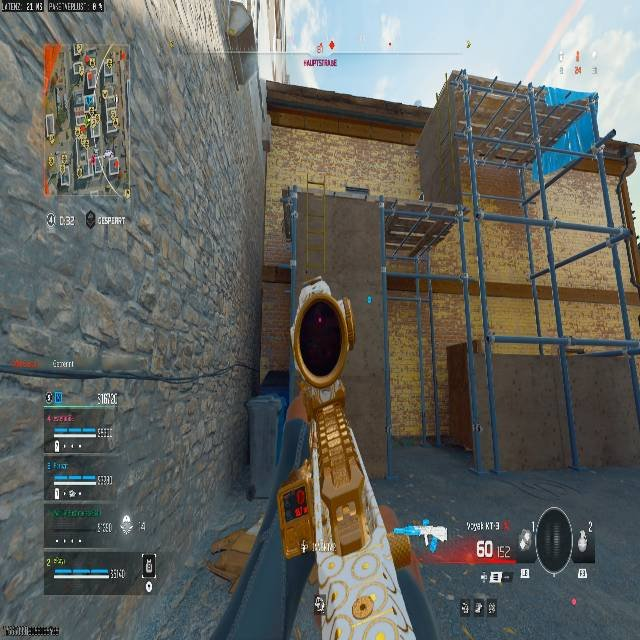head: (289, 277, 354, 373)
